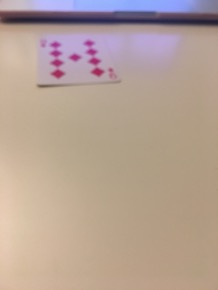NineOfDiamonds: (35, 29, 124, 92)
